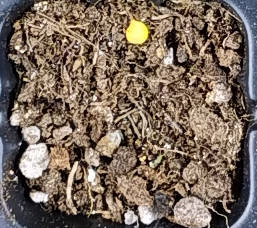pepper seed: (50, 0, 199, 41)
